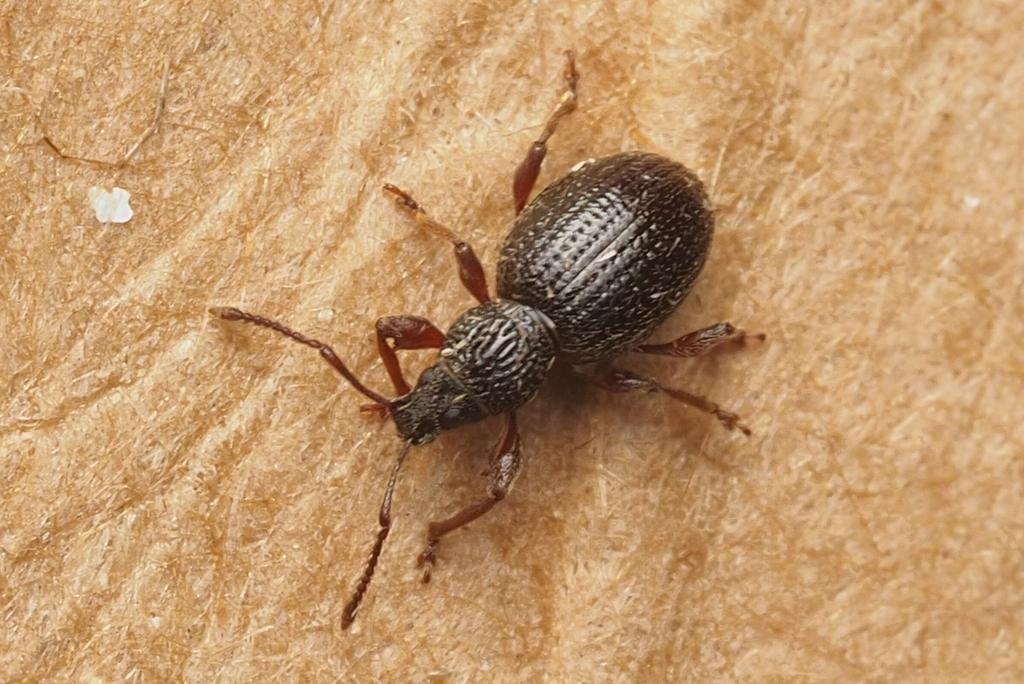weevils: (118, 0, 835, 667)
